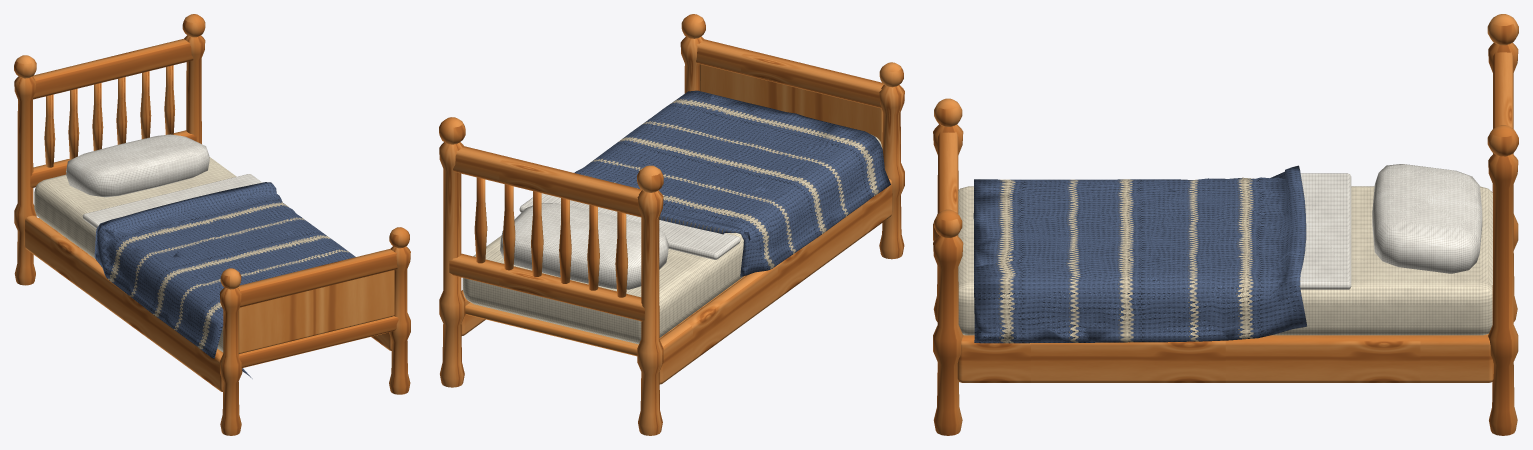
File: single_bed.glb
3 renders of one model, left to right at view 1: azimuth 30°, elevation 25°; view 2: azimuth 150°, elevation 25°; view 3: azimuth 270°, elevation 25°, orthographic. The views are drawn at different scales.
Visible parts, largest first — view 1: model; view 2: model; view 3: model.
Part boxes in pixels (x1=…): model: x1=14, y1=14, x2=410, y2=435; model: x1=439, y1=14, x2=904, y2=435; model: x1=933, y1=14, x2=1518, y2=435.
Size of the model in its own units: 1.01 by 1.15 by 2.01.
Materials: 5 (5 with a texture image).
